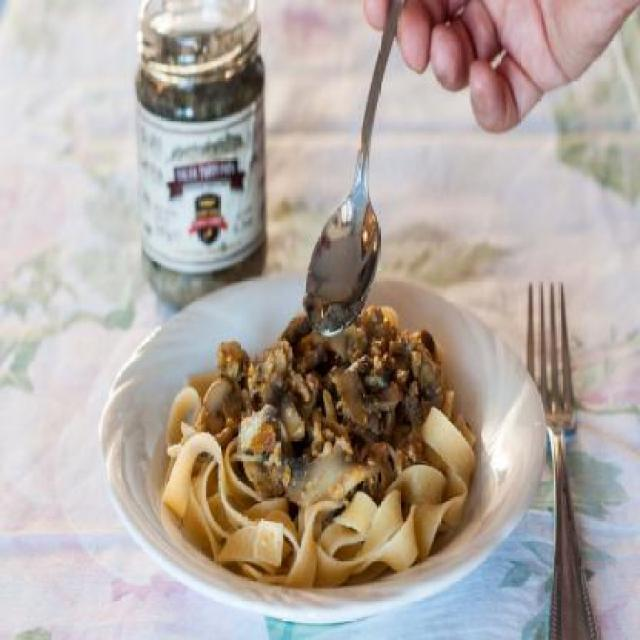Pasta al ragu: (148, 246, 538, 590)
